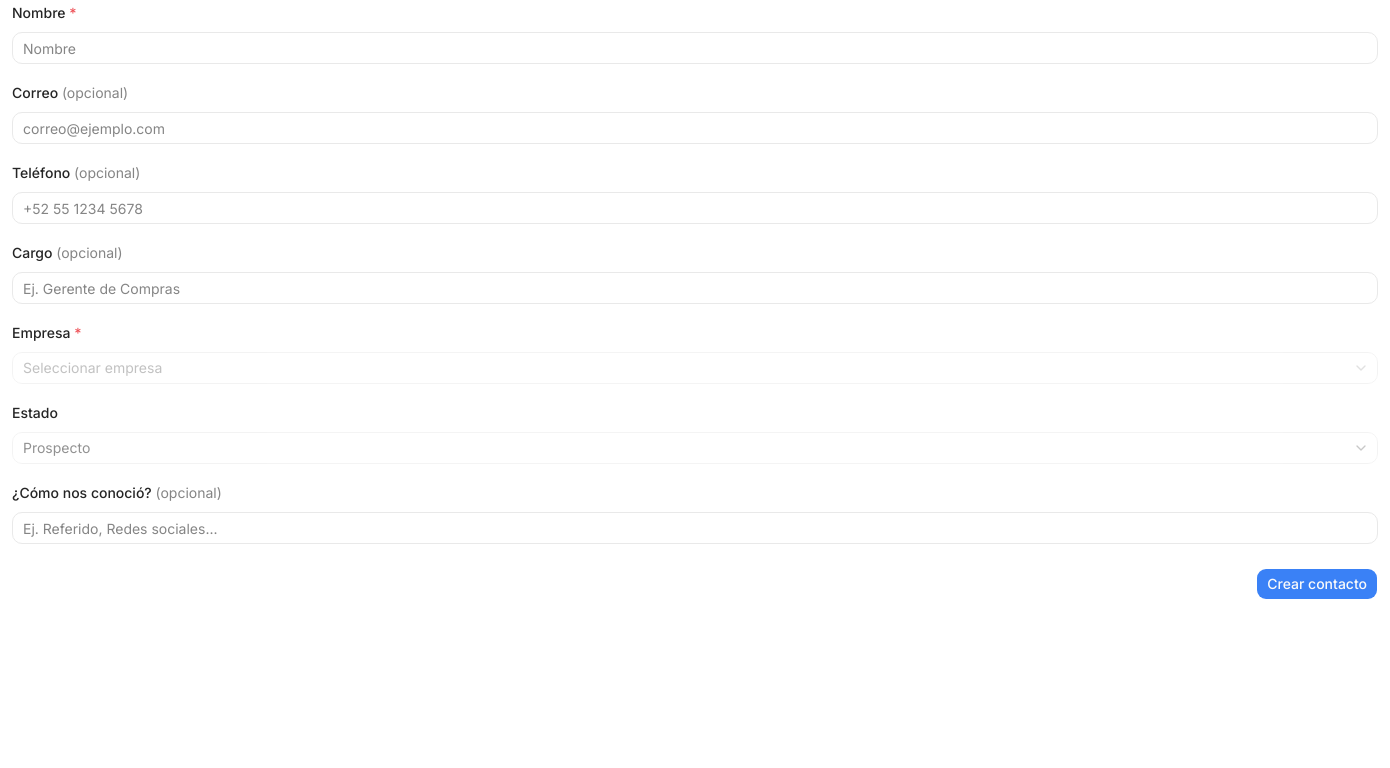
Test case: ContactoForm › submit sin nombre muestra mensaje de error de validación
Click the button "Crear contacto". click: click(1317, 584)
box: 1256,568 -> 1378,600
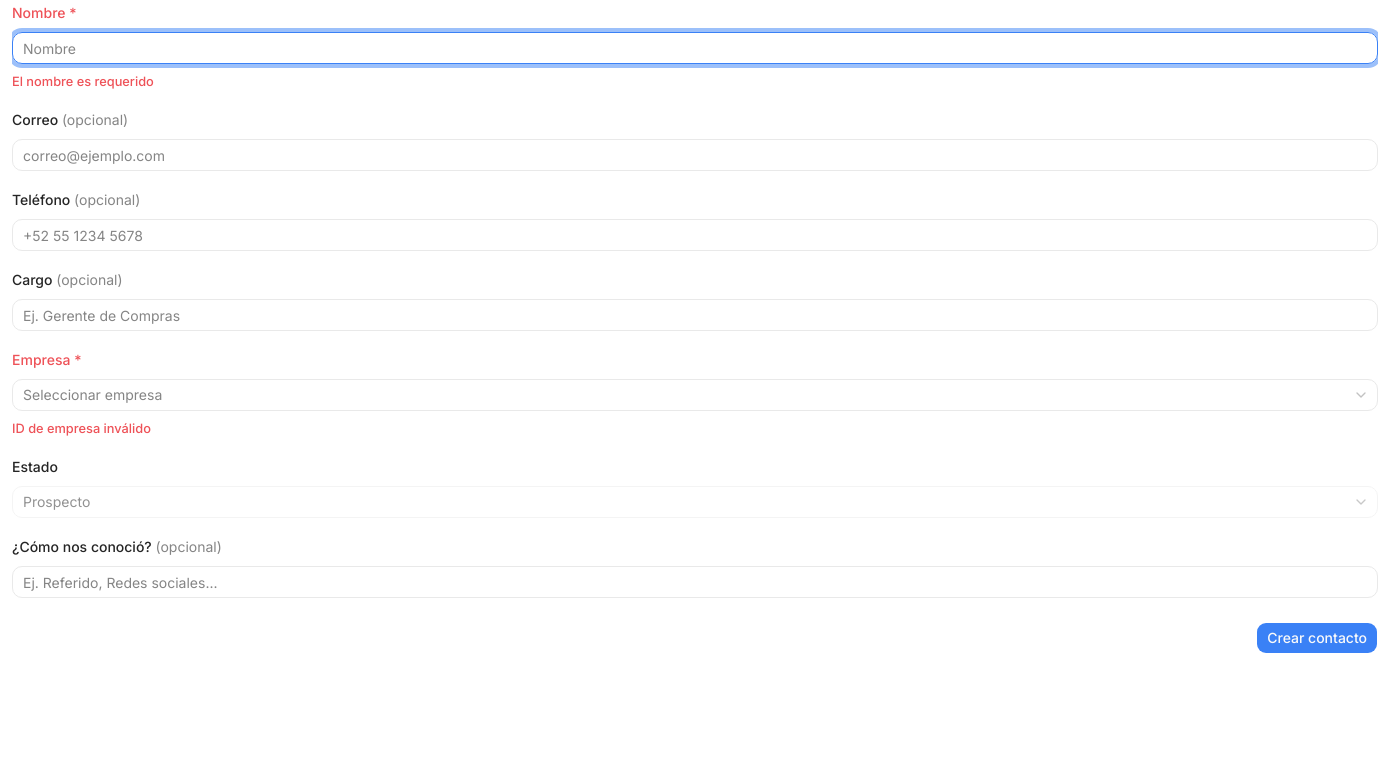
Expected: the text "El nombre es requerido" is shown, 12,74 -> 154,89
